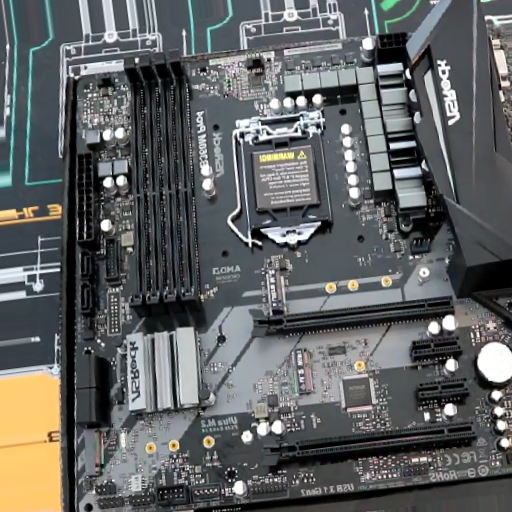CPU: (235, 110, 334, 247)
GPU: (261, 418, 476, 468), (247, 296, 455, 337)
MOTHERBOARD: (68, 30, 507, 512)
RAM: (121, 47, 199, 316)
SSD: (290, 348, 315, 393), (264, 266, 286, 315)
